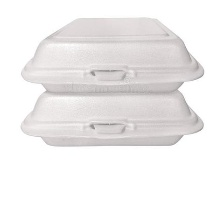foam_box: (17, 10, 206, 96), (16, 87, 205, 149)
